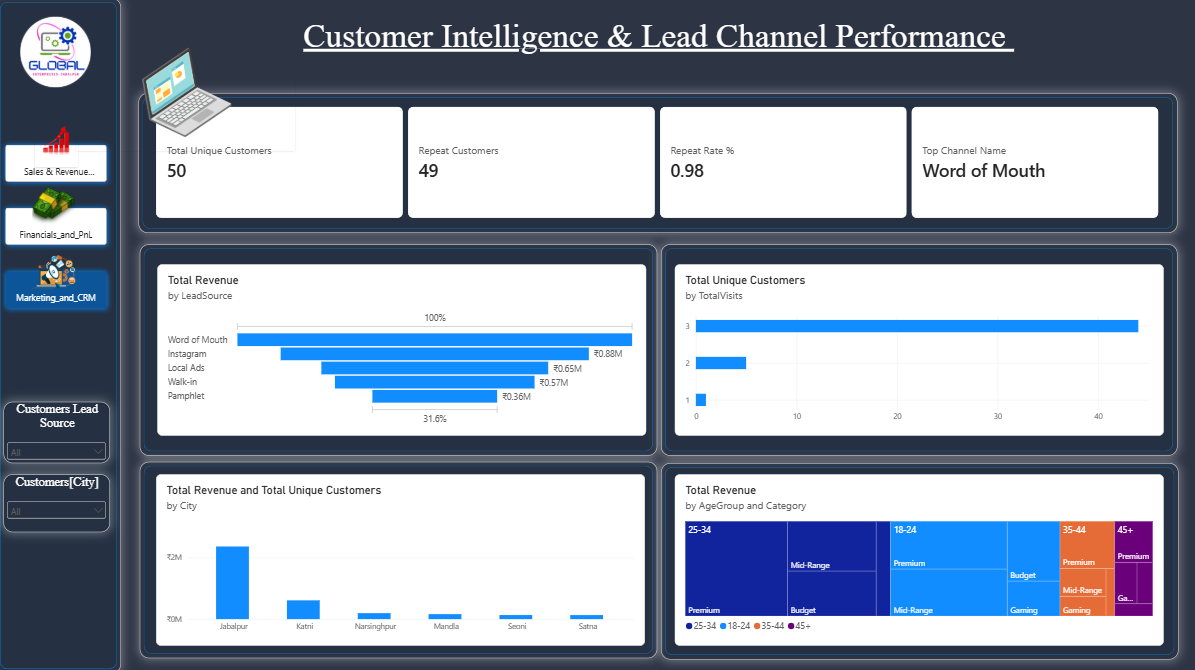

Layout of this report page (visuals, bound fields, positions):
{"tool":"powerbi","page":{"name":"Marketing_and_CRM","canvas":[1920,1080],"ordinal":2},"visuals":[{"type":"shape","box":[228,152,1662,224],"z":0},{"type":"shape","box":[0,0,200,1080.6],"z":1000},{"type":"shape","box":[230,394,828,338],"z":2000},{"type":"textbox","box":[199.7,30.9,1720.8,113.2],"z":3000},{"type":"cardVisual","fields":{"Data":["Table.Total Unique Customers","Table.Repeat Customers","Table.Repeat Rate %","Table.Top Channel Name"]},"box":[256,174,1604,178],"z":4000},{"type":"slicer","title":"Customers[City]","fields":{"Values":["Customers.City"]},"box":[11.8,761.8,170,92.7],"z":5000},{"type":"shape","box":[230,742,828,314],"z":6000},{"type":"shape","box":[1064,744,828,314],"z":7000},{"type":"columnChart","fields":{"Category":["Customers.City"],"Y":["Table.Total Revenue"]},"box":[256,762,782,274],"z":8000},{"type":"treemap","fields":{"Details":["Laptops.Category"],"Group":["Customers.AgeGroup"],"Values":["Table.Total Revenue"]},"box":[1086,762,782,274],"z":9000},{"type":"slicer","title":"Customers Lead Source","fields":{"Values":["Customers.LeadSource"]},"box":[11.8,645.5,170,98.2],"z":10000},{"type":"shape","box":[1064,394,826,338],"z":11000},{"type":"funnel","fields":{"Category":["Customers.LeadSource"],"Y":["Table.Total Revenue"]},"box":[258,426,782,274],"z":12000},{"type":"clusteredBarChart","fields":{"Category":["Customers.TotalVisits"],"Y":["Table.Total Unique Customers"]},"box":[1086,426,782,274],"z":13000},{"type":"pageNavigator","box":[6,226,180,280],"z":14000},{"type":"image","box":[61.2,180,68.8,91.2],"z":15000},{"type":"image","box":[58.3,284.2,68.8,91.2],"z":16000},{"type":"image","box":[58.3,394.2,68.8,91.2],"z":17000},{"type":"image","box":[30,30,130,112.5],"z":18000},{"type":"image","box":[127.5,62.5,350,182.5],"z":19000}]}

Visuals, with their boxes on the page's 1920x1080 design canvas (x1, y1, x2, y2). These are canvas units, not pixel positions in the 1195x670 screenshot, which may show the page scaled, cropped or inside an application window:
shape: box(228, 152, 1890, 376)
shape: box(0, 0, 200, 1081)
shape: box(230, 394, 1058, 732)
textbox: box(200, 31, 1920, 144)
cardVisual - Table.Total Unique Customers x Table.Repeat Customers: box(256, 174, 1860, 352)
"Customers[City]" slicer: box(12, 762, 182, 854)
shape: box(230, 742, 1058, 1056)
shape: box(1064, 744, 1892, 1058)
columnChart - Customers.City x Table.Total Revenue: box(256, 762, 1038, 1036)
treemap - Laptops.Category x Customers.AgeGroup: box(1086, 762, 1868, 1036)
"Customers Lead Source" slicer: box(12, 646, 182, 744)
shape: box(1064, 394, 1890, 732)
funnel - Customers.LeadSource x Table.Total Revenue: box(258, 426, 1040, 700)
clusteredBarChart - Customers.TotalVisits x Table.Total Unique Customers: box(1086, 426, 1868, 700)
pageNavigator: box(6, 226, 186, 506)
image: box(61, 180, 130, 271)
image: box(58, 284, 127, 375)
image: box(58, 394, 127, 485)
image: box(30, 30, 160, 142)
image: box(128, 62, 478, 245)
